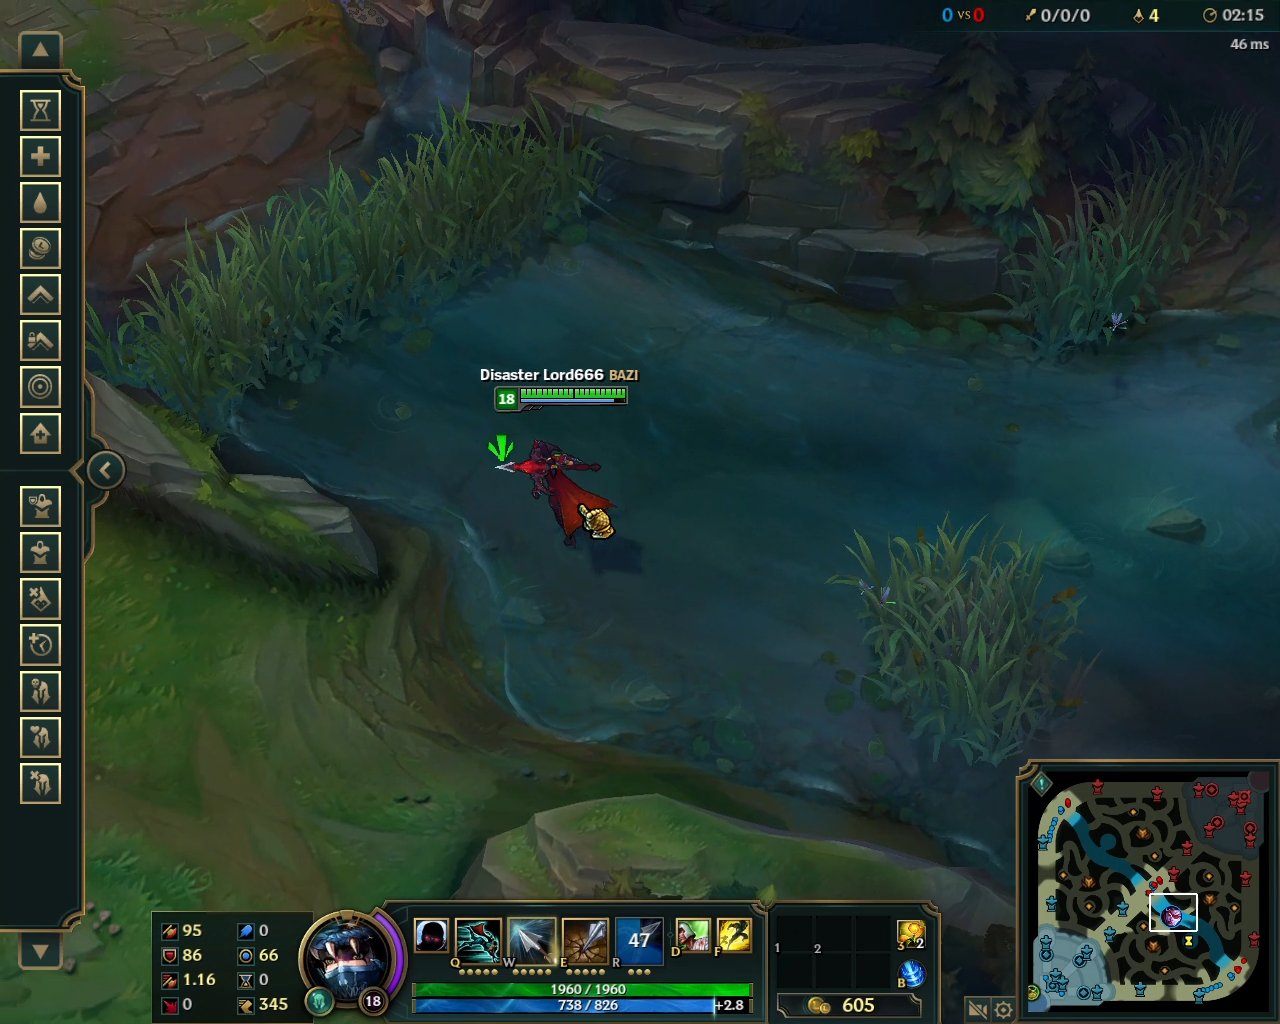Vayne: (493, 438, 618, 555)
